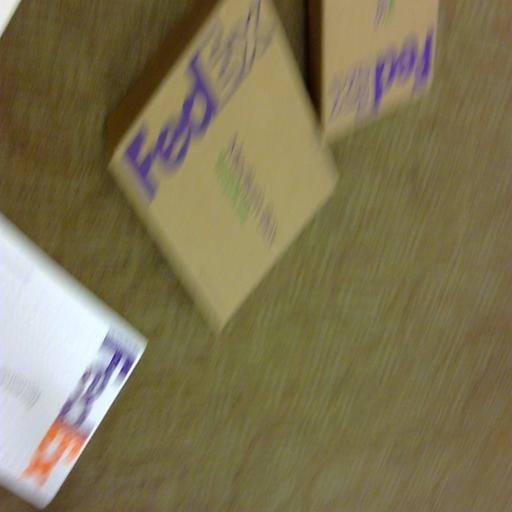Amazon: (129, 4, 321, 310), (0, 219, 149, 508)
